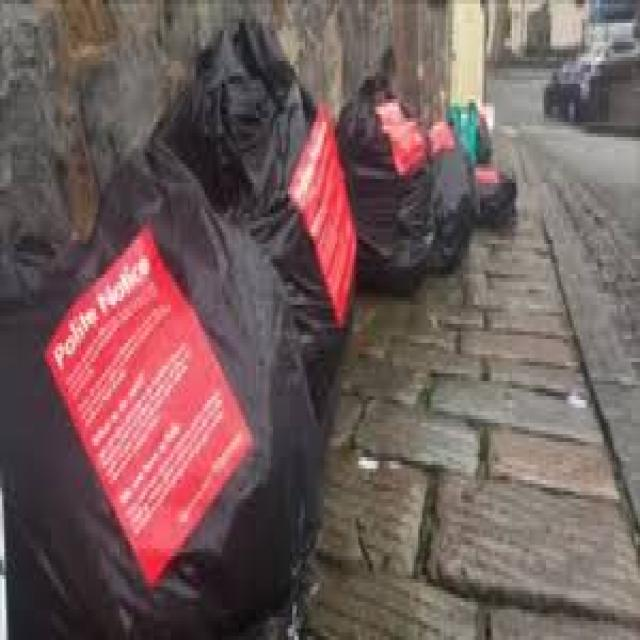plastic_bag: (44, 150, 317, 622), (163, 66, 351, 313), (353, 74, 432, 272), (434, 138, 479, 275), (451, 92, 494, 161), (479, 158, 513, 215)
